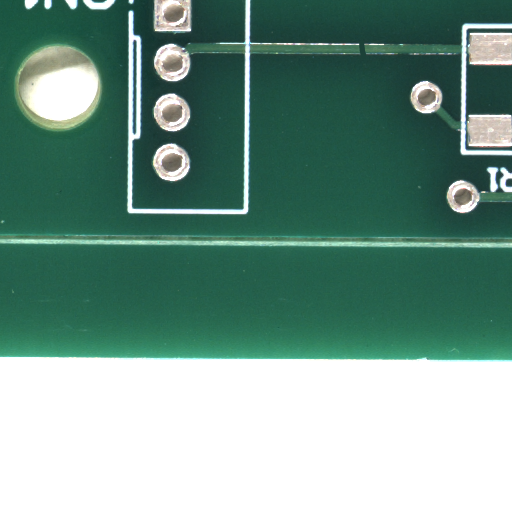Open_circuit: (362, 49, 372, 64)
